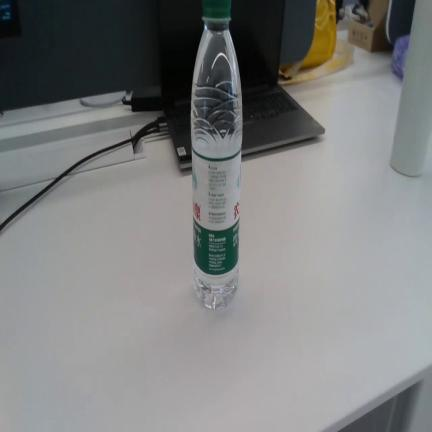bottle: (191, 0, 242, 308)
